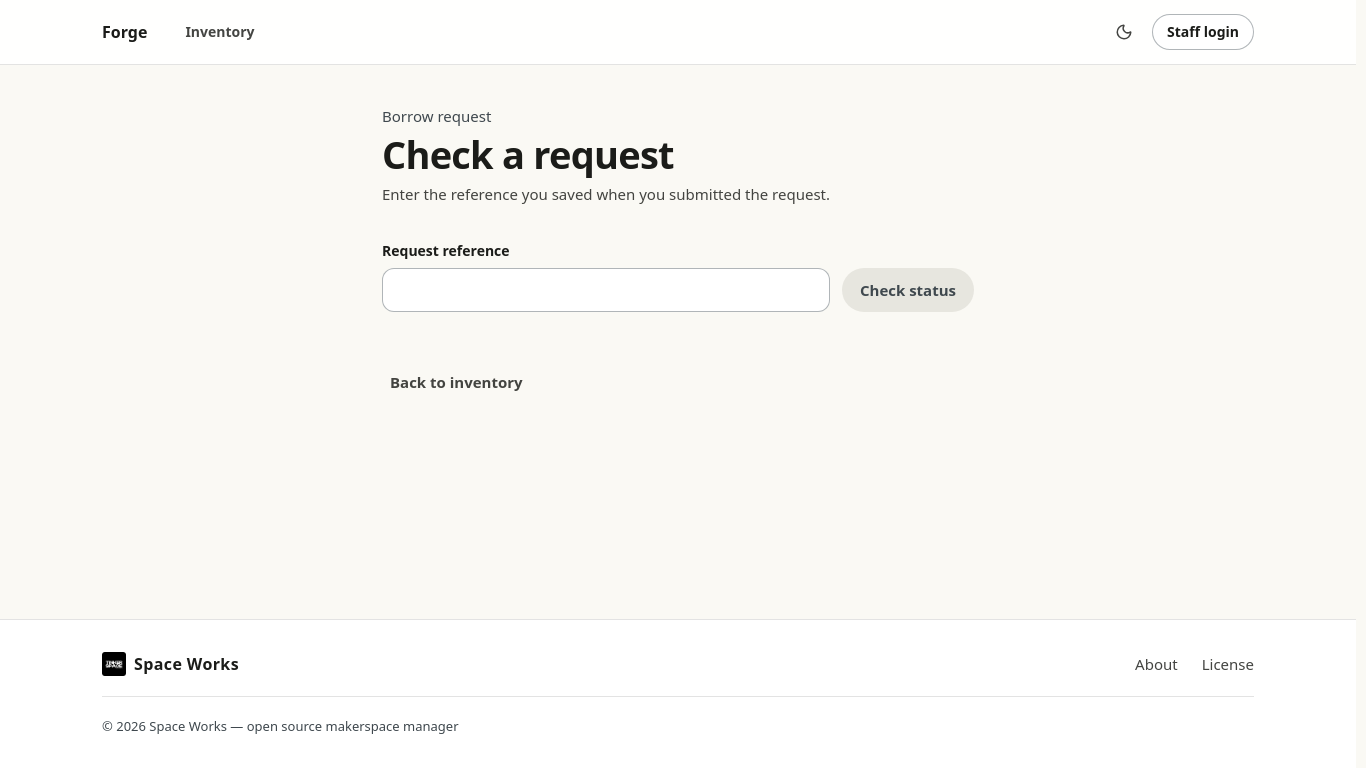
public request status lookup › looks up a typed reference and says when nothing matches
This screenshot has width=1366, height=768.
Type " tok-2 " into the field labelled "Request reference" at (606, 290), box 382,268 -> 830,312
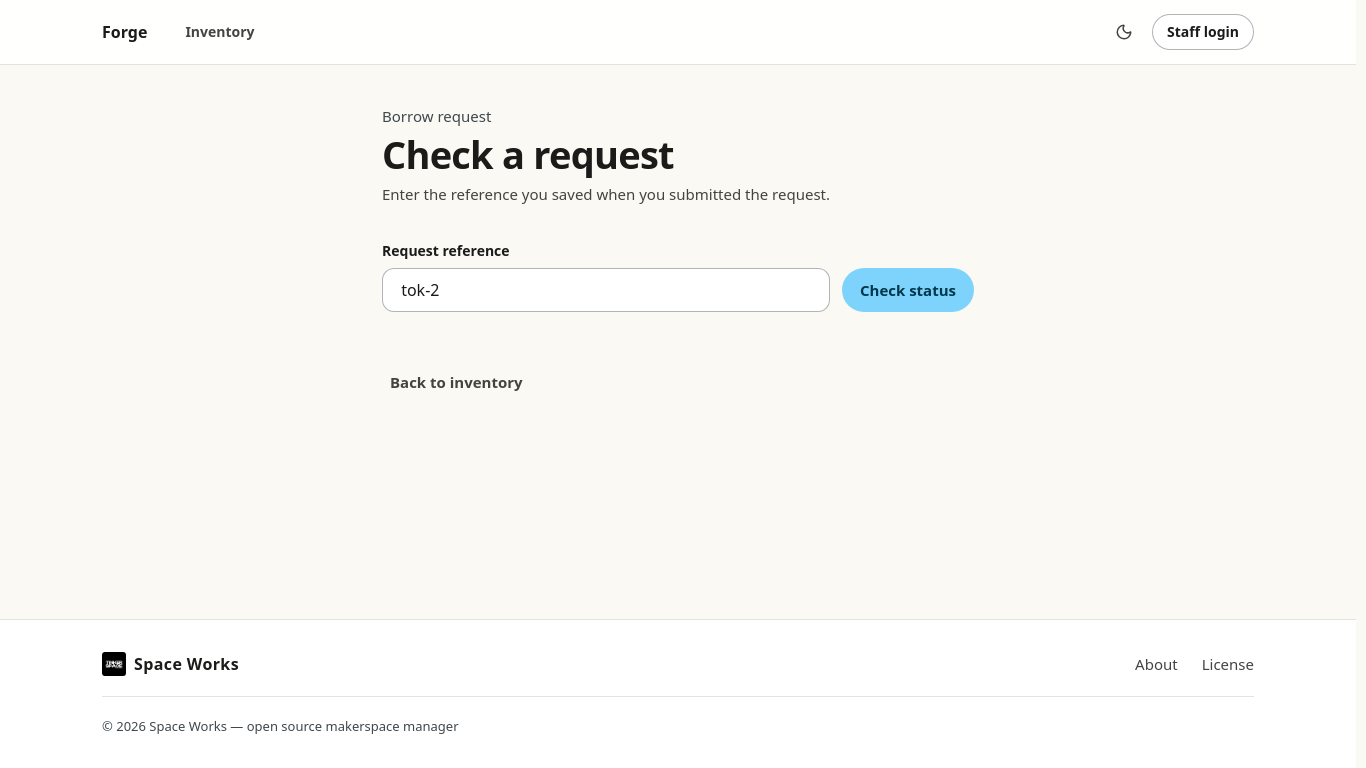
Click the button named "Check status" at (908, 290), box 842,268 -> 974,312
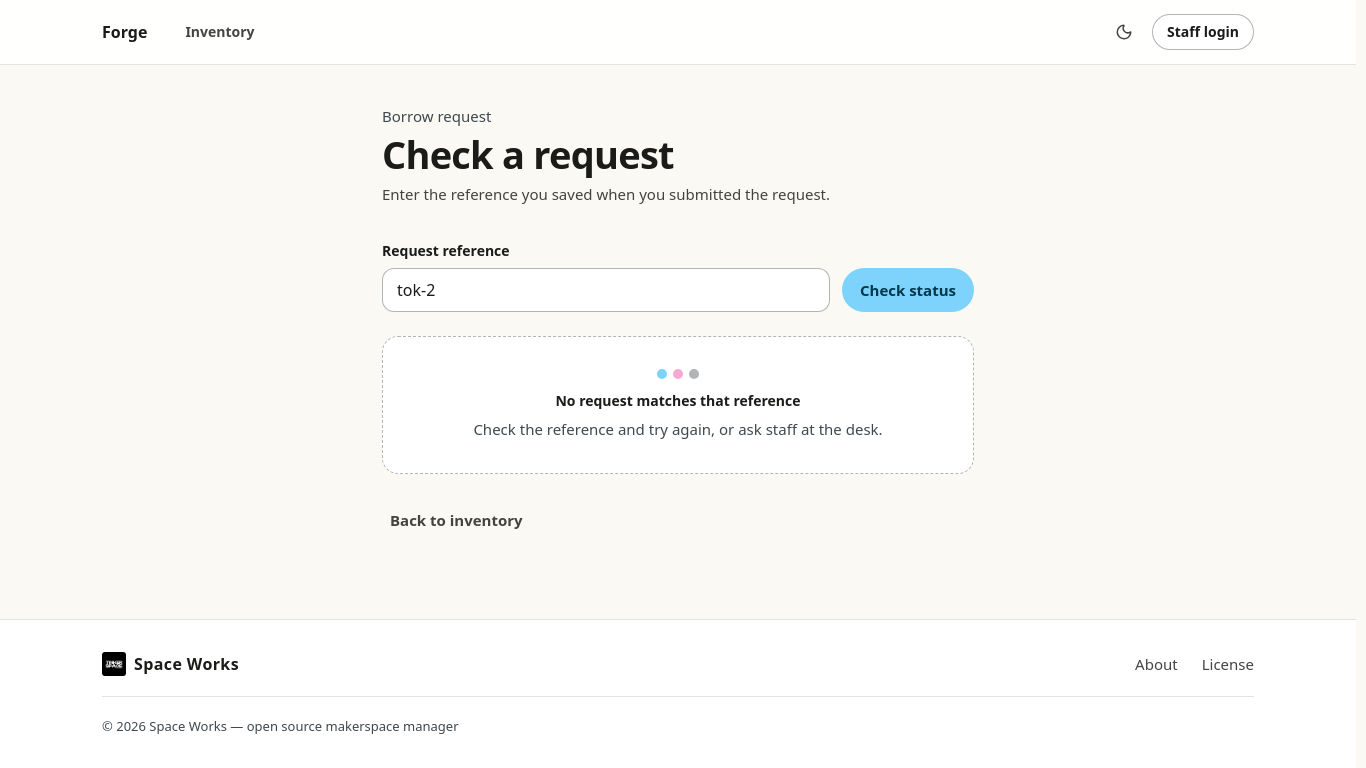
Result: the heading "No request matches that reference" is shown at 555,391 -> 800,410
